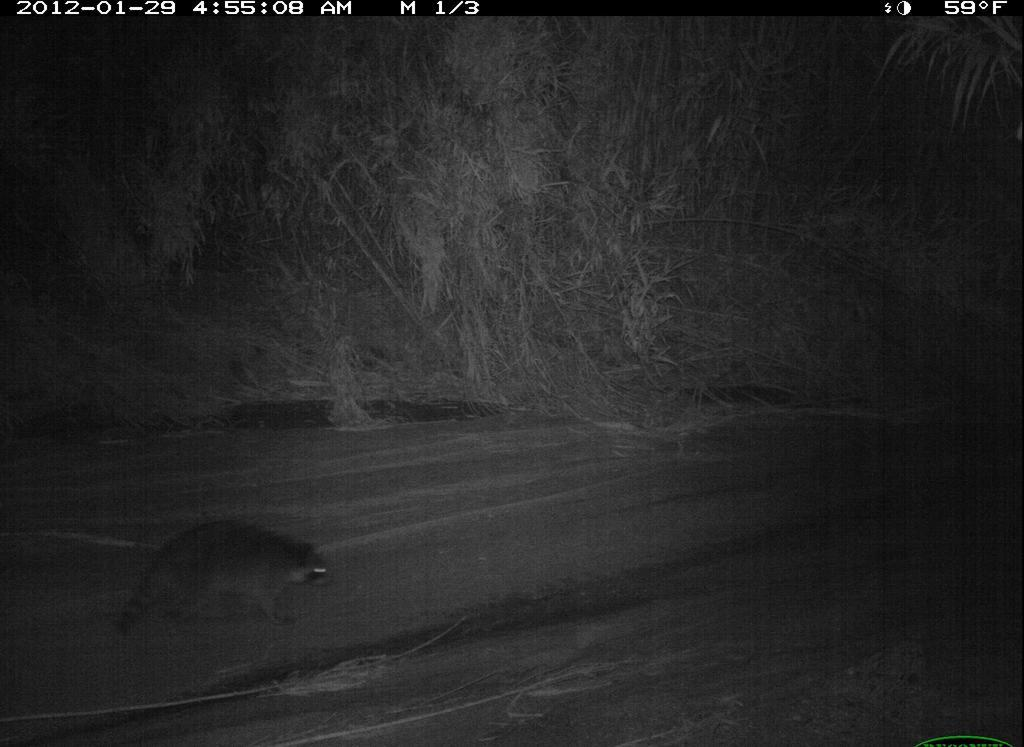raccoon: (98, 507, 340, 651)
